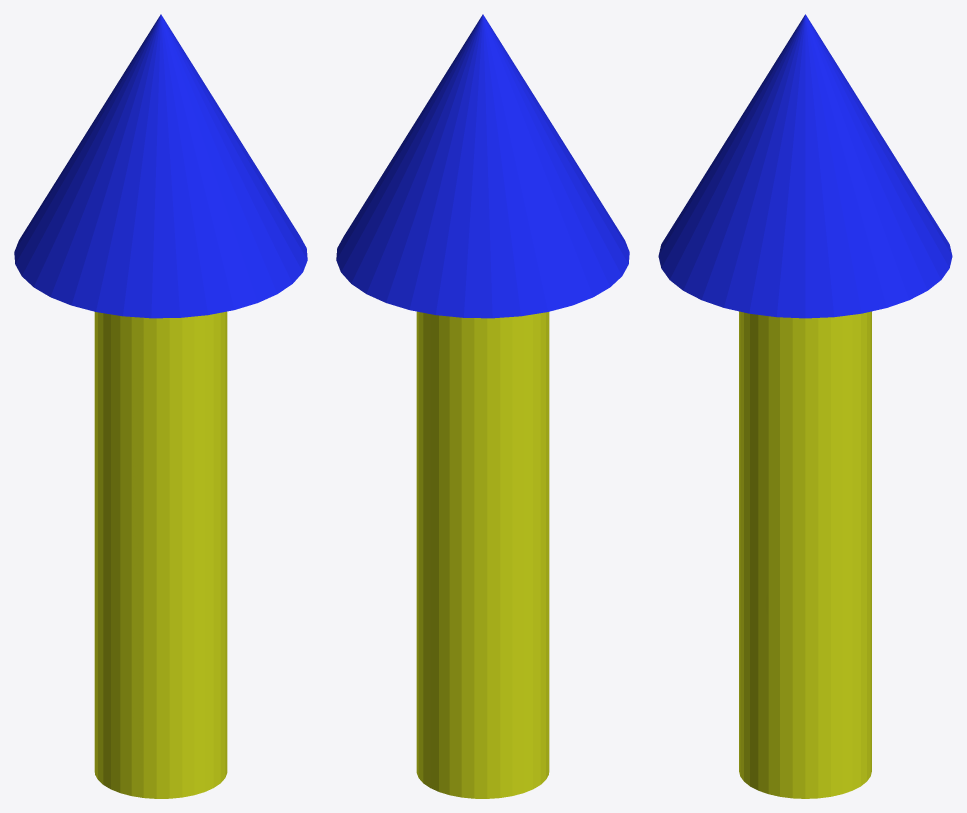
File: vector.obj
3 renders of one model, left to right at view 1: azimuth 30°, elevation 25°; view 2: azimuth 150°, elevation 25°; view 3: azimuth 270°, elevation 25°, orthographic.
Visible parts, largest first — view 1: Cone_Cone.001; view 2: Cone_Cone.001; view 3: Cone_Cone.001.
Part boxes in pixels (<box>): Cone_Cone.001: <box>14,14,307,798</box>; Cone_Cone.001: <box>336,14,629,798</box>; Cone_Cone.001: <box>658,14,952,798</box>.
Bounding box in the file's own units: 0.3531 × 1 × 0.3531.
1 material, 1 textured.
